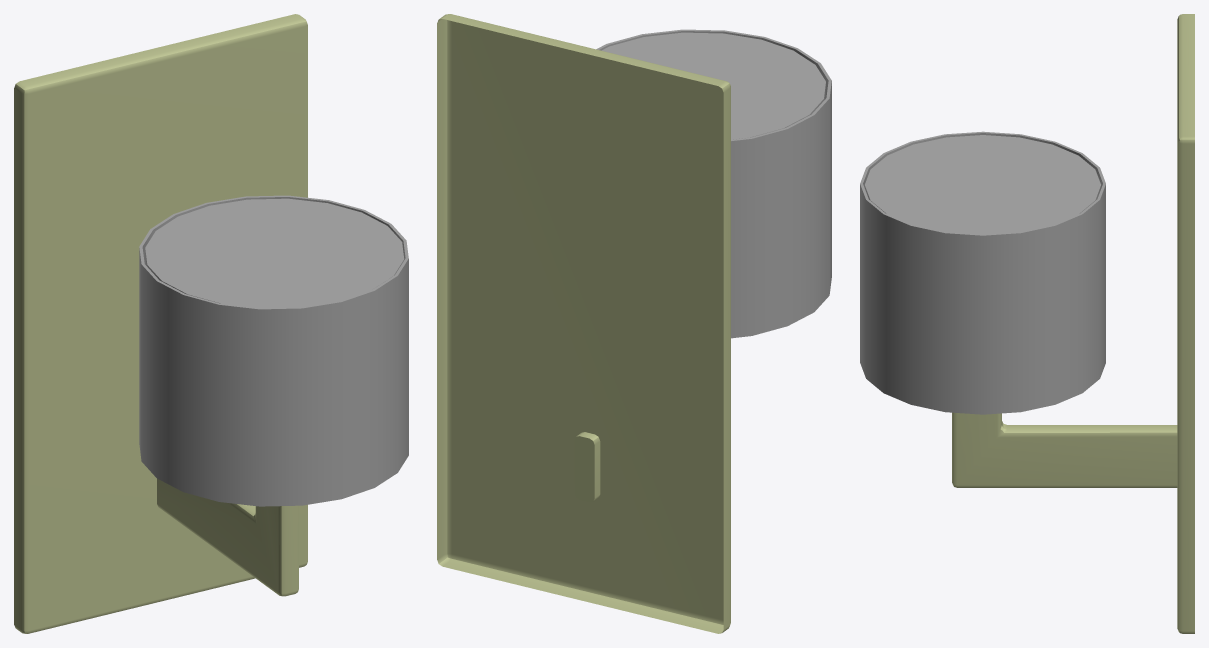
The model's file is Lamp.fbx.
The picture shows the model from 3 angles, left to right: view 1: azimuth 30°, elevation 25°; view 2: azimuth 150°, elevation 25°; view 3: azimuth 270°, elevation 25°; orthographic projection. The views are drawn at different scales.
Parts seen in each view (by area): view 1: polySurface710; view 2: polySurface710; view 3: polySurface710.
Part boxes in pixels (x1=…): polySurface710: x1=14, y1=14, x2=408, y2=633; polySurface710: x1=437, y1=14, x2=831, y2=633; polySurface710: x1=860, y1=14, x2=1194, y2=633.
Bounding box in the file's own units: 0.7648 × 1.4 × 0.8525.
